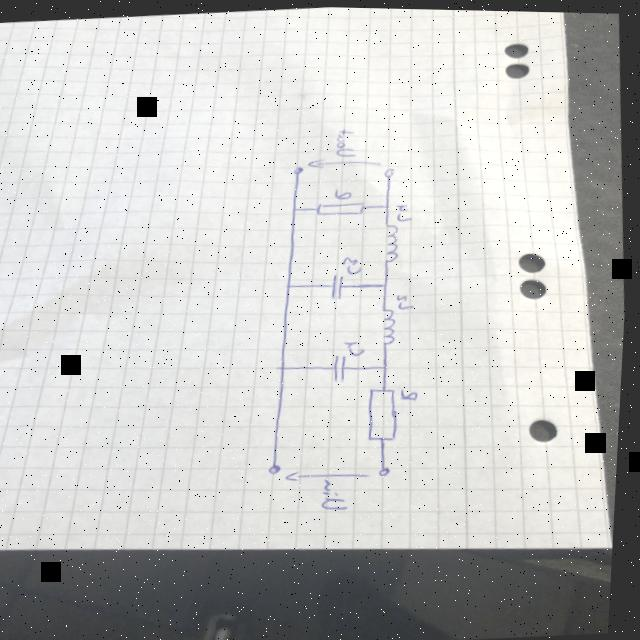capacitor: (335, 351, 352, 380), (332, 270, 349, 298)
inductor: (383, 219, 404, 261), (382, 304, 402, 344)
junction: (278, 361, 292, 371), (382, 360, 393, 370), (382, 278, 393, 288), (383, 199, 395, 208), (286, 278, 297, 287), (290, 202, 301, 211)
resistor: (368, 383, 405, 441), (316, 197, 369, 216)
terminal: (381, 163, 400, 183), (380, 456, 399, 475), (271, 454, 290, 473), (289, 162, 308, 181)
text: (324, 473, 356, 510), (334, 124, 360, 156), (342, 253, 366, 272), (346, 337, 370, 355), (397, 290, 419, 308), (397, 200, 417, 219), (401, 382, 423, 398), (336, 183, 354, 198)
